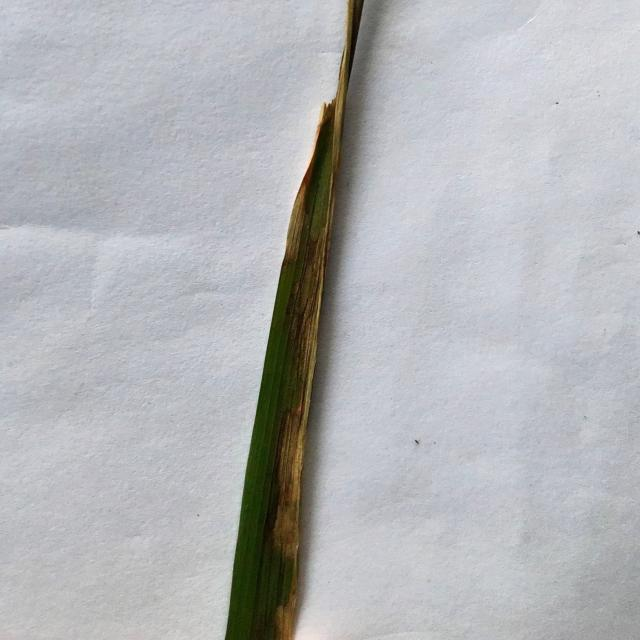Bacterial_Leaf_Blight: (221, 0, 370, 640)
